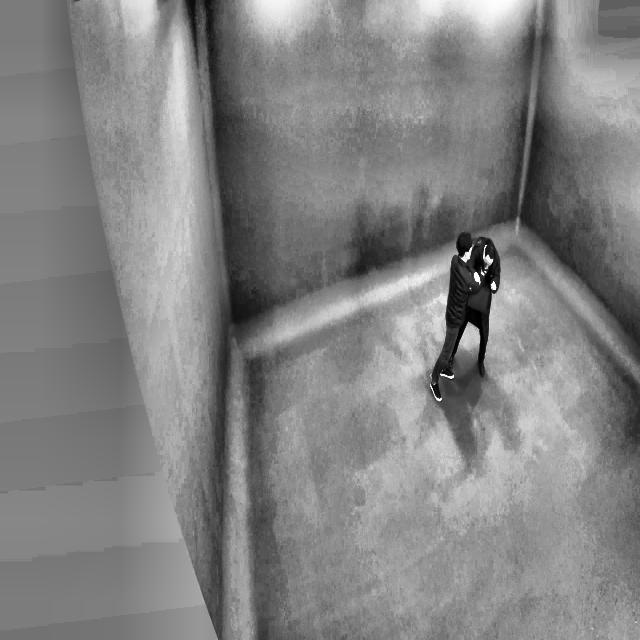assult: (428, 224, 508, 408), (456, 236, 500, 308)
